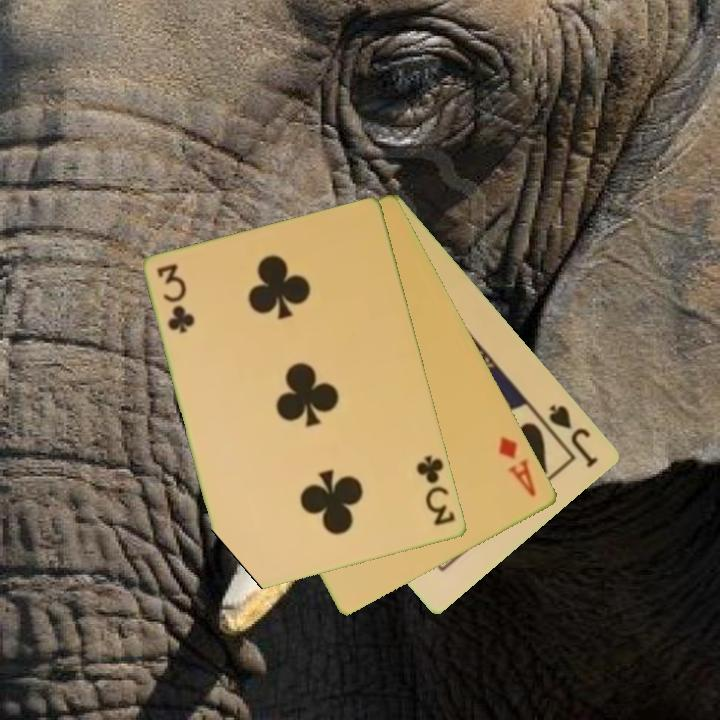3c: (413, 452, 459, 529), (153, 260, 197, 337)
Ad: (495, 433, 540, 500)
Js: (545, 401, 601, 471)
